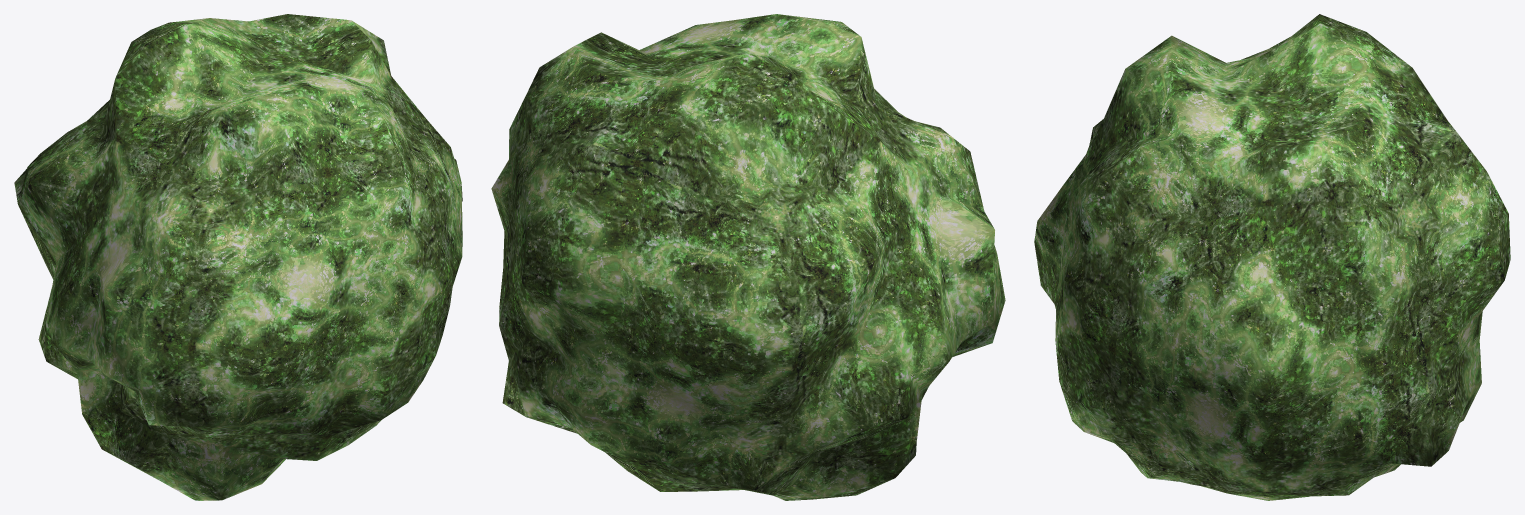
Rendered from asteroid_acid_large_s02_l0.fbx.
3 renders of one model, left to right at view 1: azimuth 30°, elevation 25°; view 2: azimuth 150°, elevation 25°; view 3: azimuth 270°, elevation 25°, orthographic. The views are drawn at different scales.
Visible parts, largest first — view 1: mesh_node; view 2: mesh_node; view 3: mesh_node.
Boxes of the visible parts, bbox=[...] form: mesh_node: bbox=[14, 14, 462, 500]; mesh_node: bbox=[491, 14, 1005, 500]; mesh_node: bbox=[1034, 14, 1510, 500].
Size of the model in its own units: 116 by 116 by 108.
Materials: 1 (1 with a texture image).
